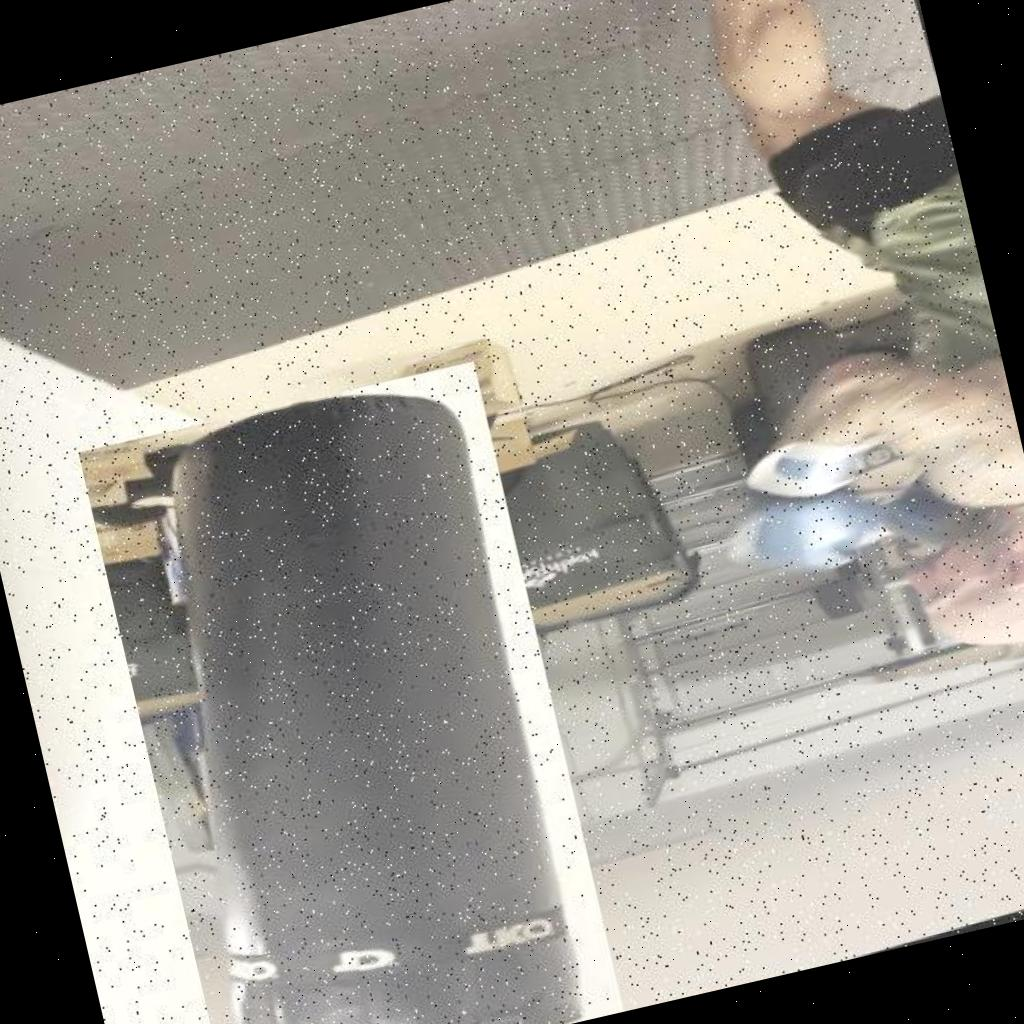bag: (78, 361, 623, 1024)
no punch: (665, 291, 1024, 750)
